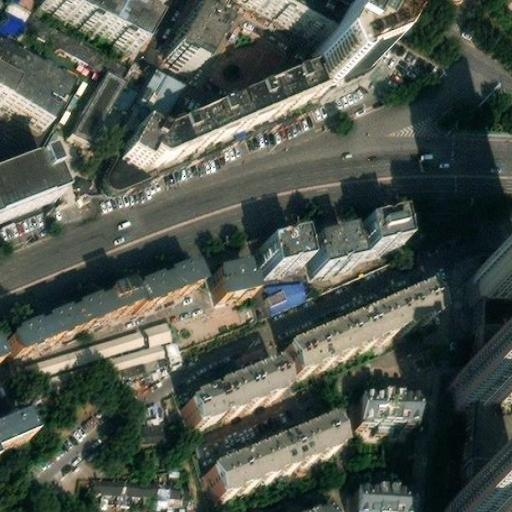building: (121, 66, 315, 160), (10, 257, 200, 347), (284, 281, 441, 373), (204, 414, 340, 503), (180, 360, 287, 430), (41, 333, 169, 387), (305, 6, 387, 88), (24, 322, 146, 377), (71, 63, 129, 139), (475, 379, 512, 481), (167, 6, 218, 64), (480, 284, 512, 356), (139, 59, 186, 108), (319, 227, 373, 269), (257, 274, 308, 313), (364, 213, 413, 253), (277, 0, 337, 32), (355, 396, 416, 427), (469, 471, 512, 508), (107, 149, 151, 185), (471, 341, 512, 379), (259, 238, 301, 274), (354, 486, 410, 512), (214, 258, 253, 294), (92, 473, 179, 489), (257, 499, 338, 512), (141, 311, 176, 339), (482, 260, 512, 284), (165, 333, 185, 361)
